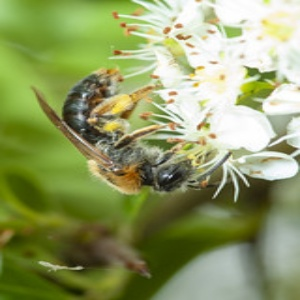bee: (41, 69, 202, 201)
